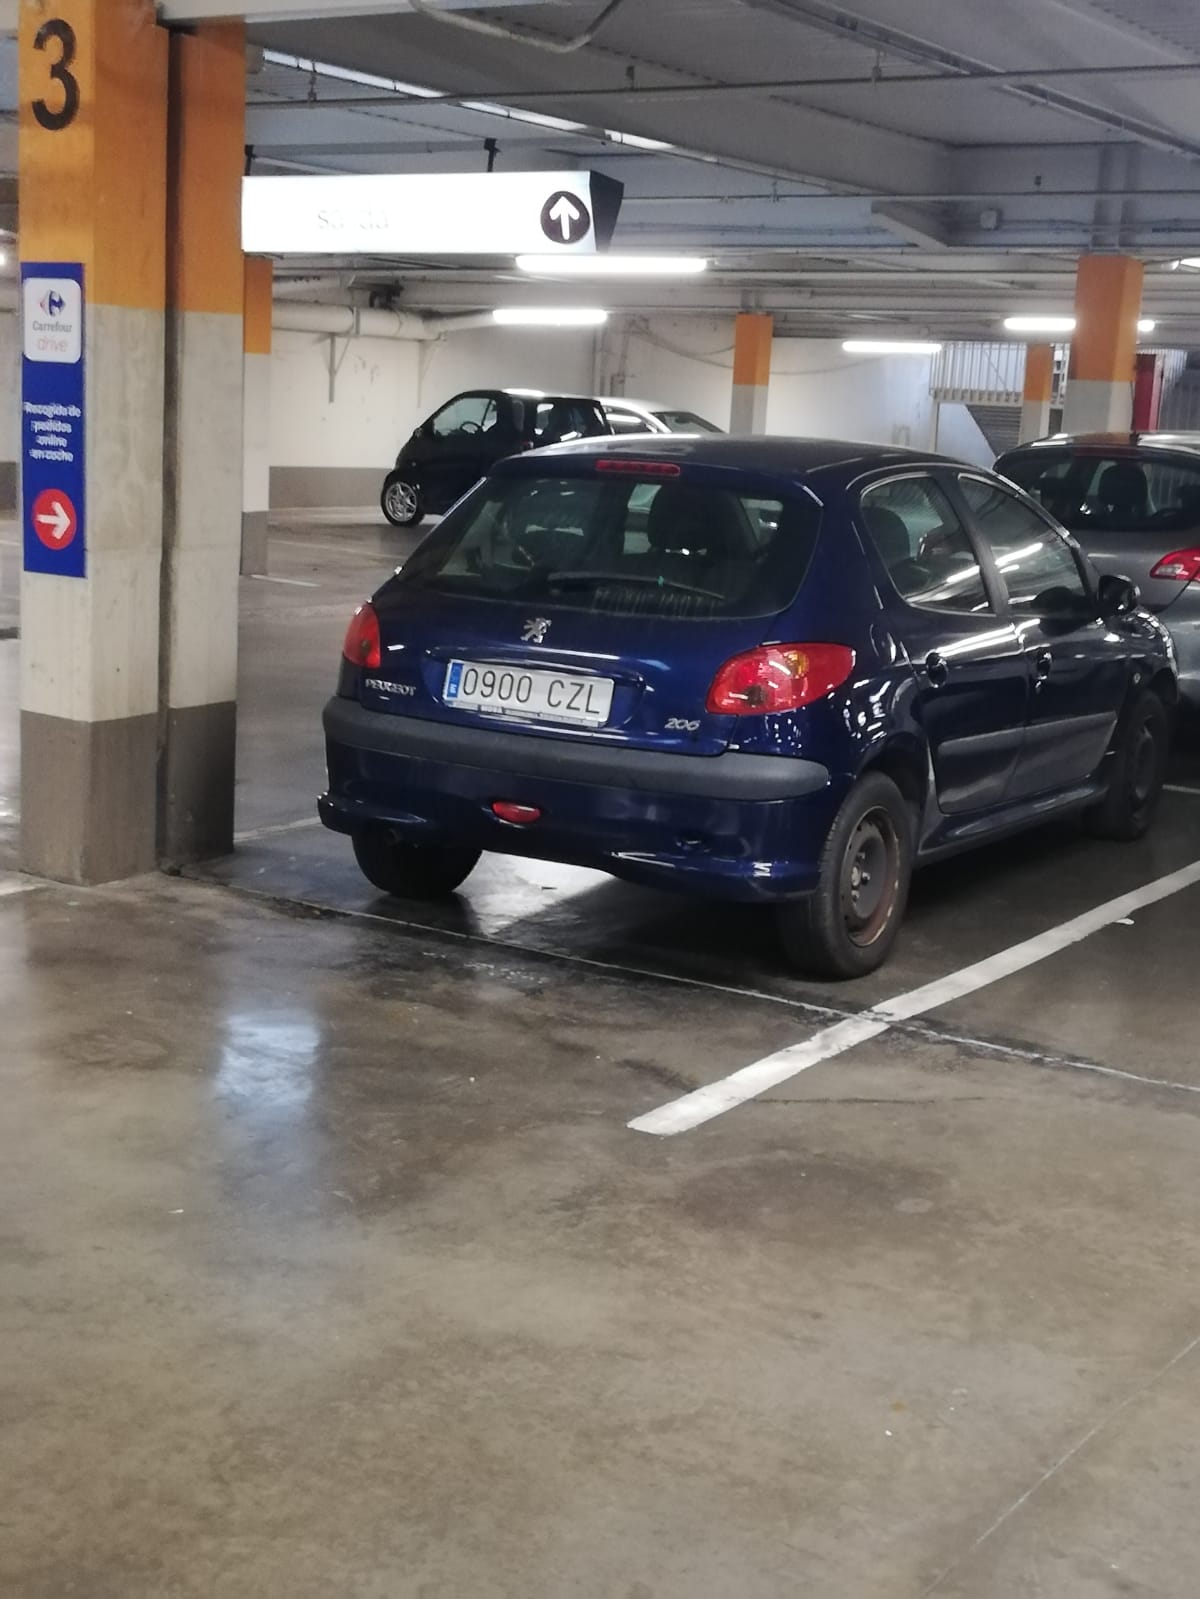Car: (315, 443, 1157, 961)
Plate: (447, 654, 617, 705)
